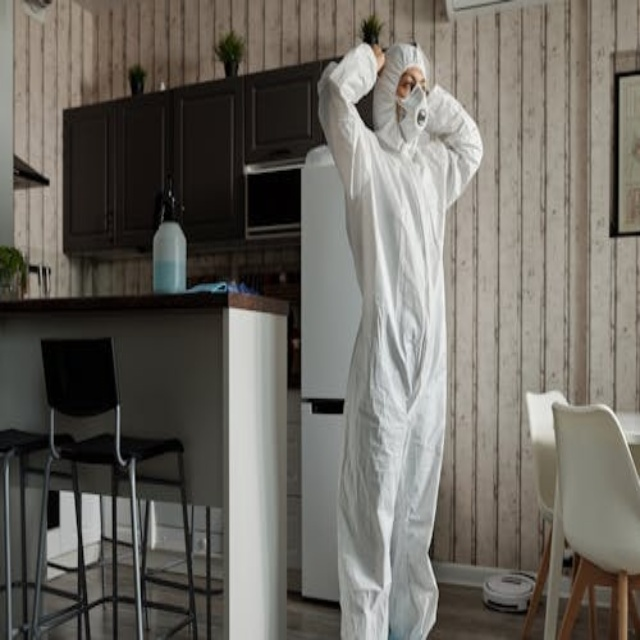Mascara: (397, 84, 429, 145)
Sin_gafas: (398, 67, 430, 100)
